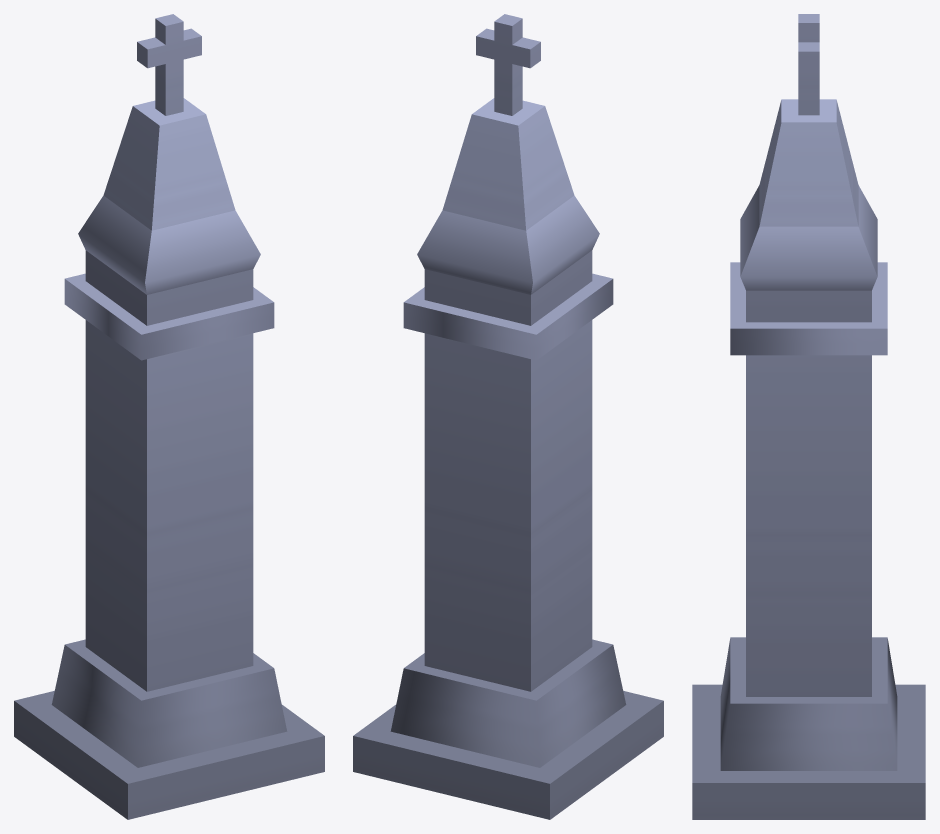
Rendered from cross-column.glb.
The picture shows the model from 3 angles, left to right: view 1: azimuth 30°, elevation 25°; view 2: azimuth 150°, elevation 25°; view 3: azimuth 270°, elevation 25°; orthographic projection. The views are drawn at different scales.
Parts seen in each view (by area): view 1: Asset3DLoader.sceneRoot; view 2: Asset3DLoader.sceneRoot; view 3: Asset3DLoader.sceneRoot.
Part boxes in pixels (x1=…): Asset3DLoader.sceneRoot: x1=14, y1=14, x2=324, y2=819; Asset3DLoader.sceneRoot: x1=353, y1=14, x2=663, y2=819; Asset3DLoader.sceneRoot: x1=692, y1=14, x2=925, y2=819.
Size of the model in its own units: 0.4 by 1.42 by 0.4.
1 material, 1 textured.
